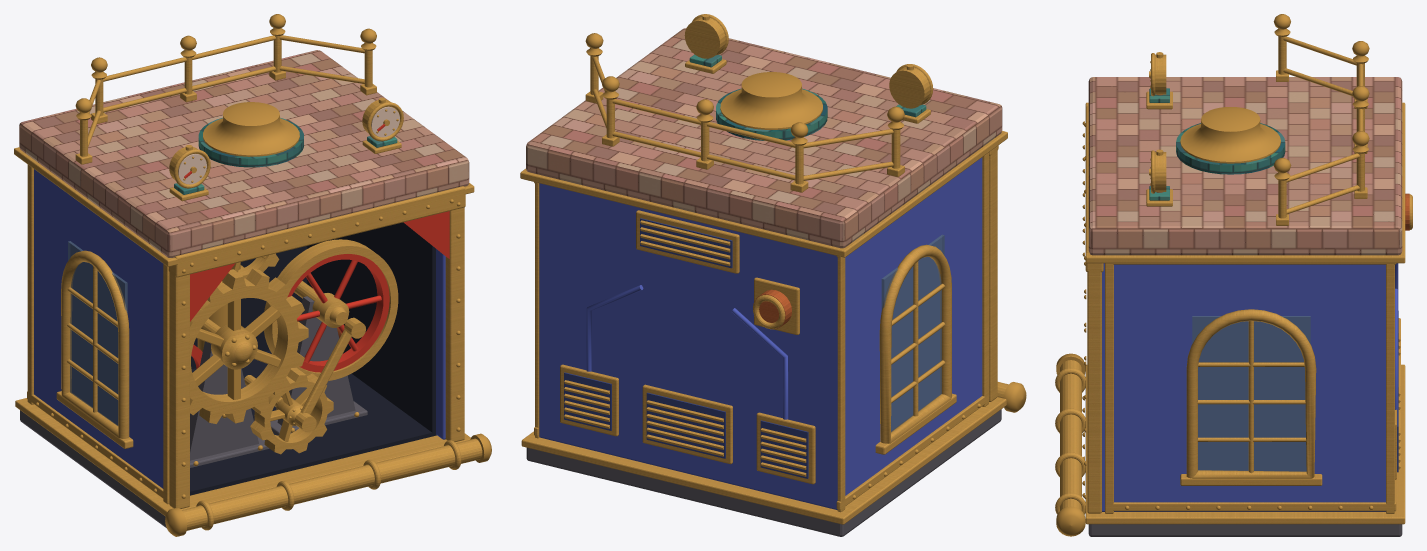
File: act2_gear_machine_bl.glb
The picture shows the model from 3 angles, left to right: view 1: azimuth 30°, elevation 25°; view 2: azimuth 150°, elevation 25°; view 3: azimuth 270°, elevation 25°; orthographic projection. The views are drawn at different scales.
Visible parts, largest first — view 1: SM_Act2_GearMachine_Body, ANIM_GB_GearBig_Mesh, ANIM_GB_Flywheel_Mesh, ANIM_GB_GearSmall_Mesh; view 2: SM_Act2_GearMachine_Body; view 3: SM_Act2_GearMachine_Body.
Boxes of the visible parts, x1=… form: SM_Act2_GearMachine_Body: x1=14, y1=14, x2=491, y2=536; ANIM_GB_GearBig_Mesh: x1=190, y1=268, x2=308, y2=423; ANIM_GB_Flywheel_Mesh: x1=264, y1=239, x2=398, y2=380; ANIM_GB_GearSmall_Mesh: x1=250, y1=367, x2=333, y2=454; SM_Act2_GearMachine_Body: x1=520, y1=14, x2=1026, y2=536; SM_Act2_GearMachine_Body: x1=1055, y1=14, x2=1412, y2=536.
Size of the model in its own units: 2.58 by 2.8 by 2.42.
Materials: 11 (4 with a texture image).
